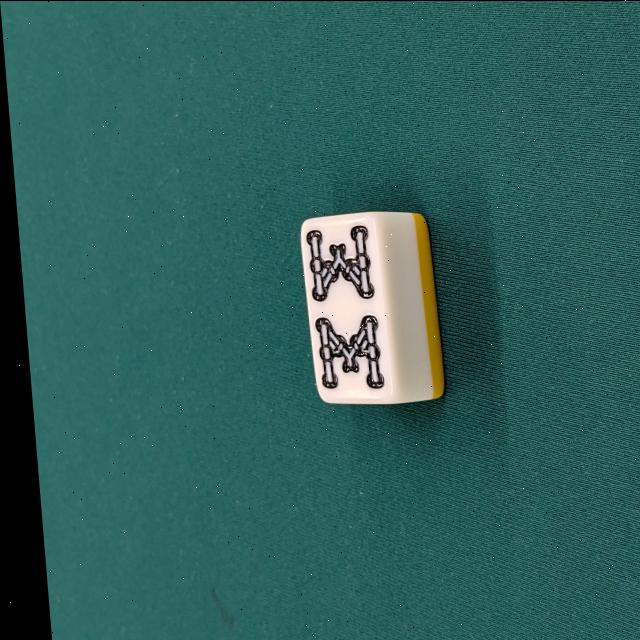8s: (296, 209, 441, 405)
